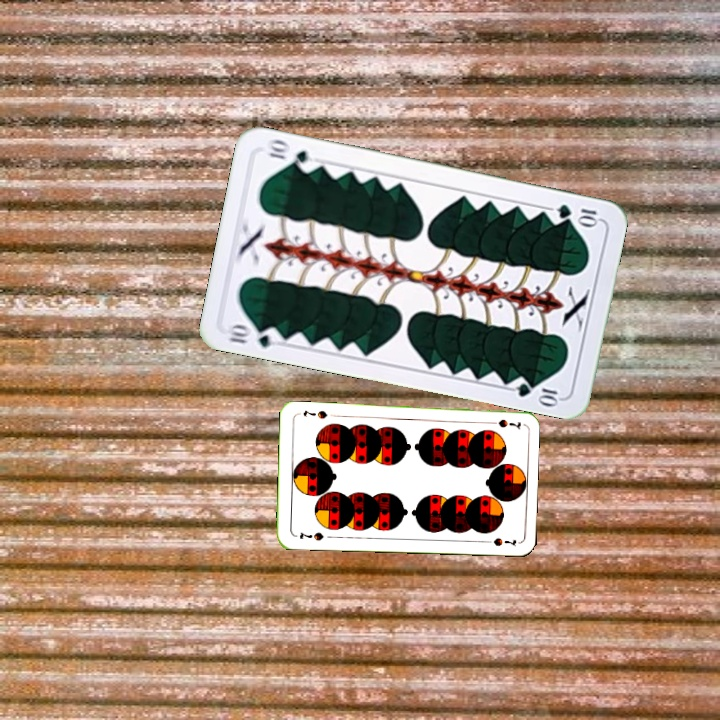G10: (223, 320, 283, 350), (552, 200, 602, 227)
S7: (483, 415, 523, 431), (295, 528, 326, 543)
